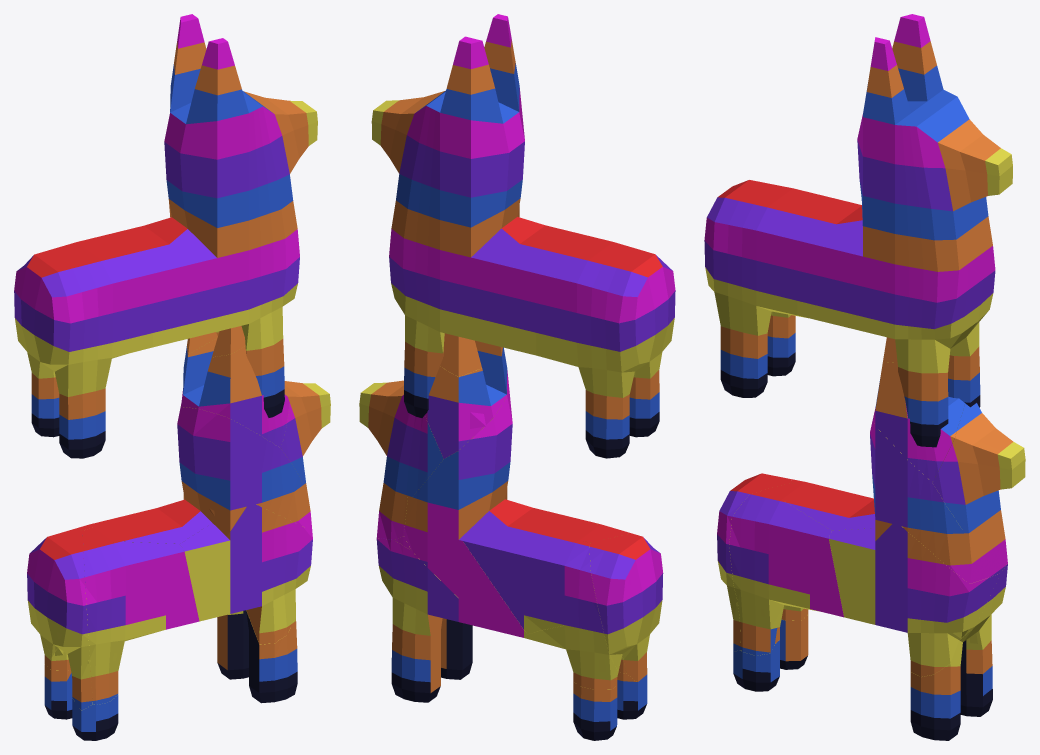
The model's file is pinata.glb.
3 views of the same model, side by side, from view 1: azimuth 30°, elevation 25°; view 2: azimuth 150°, elevation 25°; view 3: azimuth 330°, elevation 25° (orthographic).
Parts seen in each view (by area): view 1: Destructible.004, Destructible.002, Destructible.001, Destructible.003, Destructible.004_cell, Destructible.003_cell.004, Destructible.002_cell.002, Destructible.001_cell.001, Destructible.002_cell.003, Destructible.004_cell.003, Destructible.003_cell.001, Destructible.001_cell (+8 smaller); view 2: Destructible.004, Destructible.002, Destructible.001, Destructible.003, Destructible.001_cell.002, Destructible.003_cell.001, Destructible.002_cell.002, Destructible.004_cell.003, Destructible.004_cell.002, Destructible.004_cell, Destructible.002_cell, Destructible.003_cell (+6 smaller); view 3: Destructible.004, Destructible.003, Destructible.001, Destructible.002, Destructible.003_cell.004, Destructible.004_cell.002, Destructible.003_cell.001, Destructible.002_cell.003, Destructible.001_cell.001, Destructible.004_cell, Destructible.004_cell.003, Destructible.003_cell.002 (+5 smaller).
Boxes of the visible parts, x1=… form: Destructible.004: x1=164, y1=14, x2=317, y2=227; Destructible.002: x1=14, y1=242, x2=112, y2=458; Destructible.001: x1=76, y1=217, x2=217, y2=358; Destructible.003: x1=168, y1=199, x2=299, y2=417; Destructible.004_cell: x1=177, y1=407, x2=303, y2=510; Destructible.003_cell.004: x1=226, y1=504, x2=312, y2=644; Destructible.002_cell.002: x1=27, y1=528, x2=92, y2=710; Destructible.001_cell.001: x1=85, y1=541, x2=199, y2=641; Destructible.002_cell.003: x1=82, y1=527, x2=125, y2=704; Destructible.004_cell.003: x1=180, y1=338, x2=290, y2=447; Destructible.003_cell.001: x1=217, y1=610, x2=297, y2=703; Destructible.001_cell: x1=180, y1=523, x2=230, y2=621; Destructible.004: x1=371, y1=14, x2=524, y2=227; Destructible.002: x1=577, y1=242, x2=675, y2=458; Destructible.001: x1=471, y1=217, x2=612, y2=366; Destructible.003: x1=389, y1=198, x2=520, y2=417; Destructible.001_cell.002: x1=462, y1=499, x2=599, y2=634; Destructible.003_cell.001: x1=376, y1=538, x2=472, y2=702; Destructible.002_cell.002: x1=589, y1=533, x2=663, y2=682; Destructible.004_cell.003: x1=425, y1=340, x2=508, y2=458; Destructible.004_cell.002: x1=359, y1=380, x2=443, y2=496; Destructible.004_cell: x1=412, y1=387, x2=512, y2=509; Destructible.002_cell: x1=564, y1=540, x2=626, y2=689; Destructible.003_cell: x1=403, y1=481, x2=508, y2=597; Destructible.004: x1=857, y1=14, x2=1012, y2=240; Destructible.003: x1=863, y1=216, x2=995, y2=447; Destructible.001: x1=756, y1=188, x2=862, y2=331; Destructible.002: x1=704, y1=180, x2=795, y2=397; Destructible.003_cell.004: x1=875, y1=524, x2=1000, y2=676; Destructible.004_cell.002: x1=932, y1=403, x2=1025, y2=533; Destructible.003_cell.001: x1=910, y1=563, x2=1007, y2=740; Destructible.002_cell.003: x1=729, y1=483, x2=801, y2=655; Destructible.001_cell.001: x1=768, y1=500, x2=843, y2=617; Destructible.004_cell: x1=870, y1=410, x2=964, y2=533; Destructible.004_cell.003: x1=873, y1=362, x2=964, y2=482; Destructible.003_cell.002: x1=902, y1=510, x2=1007, y2=583.
Bounding box in the file's own units: 8.65 × 18.65 × 2.43.
